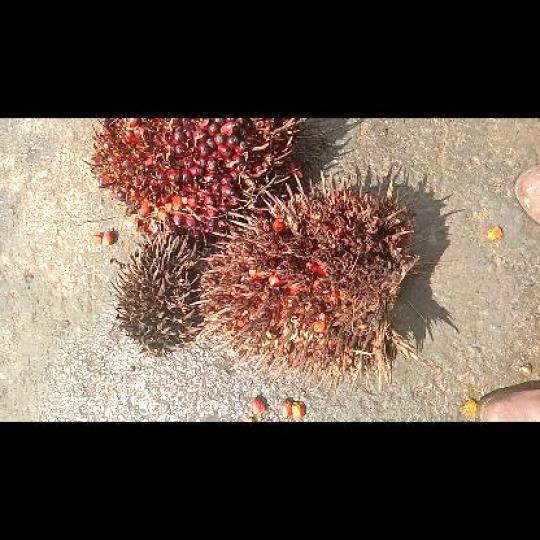masak: (84, 117, 305, 236)
terlalu masak: (191, 170, 419, 396)
